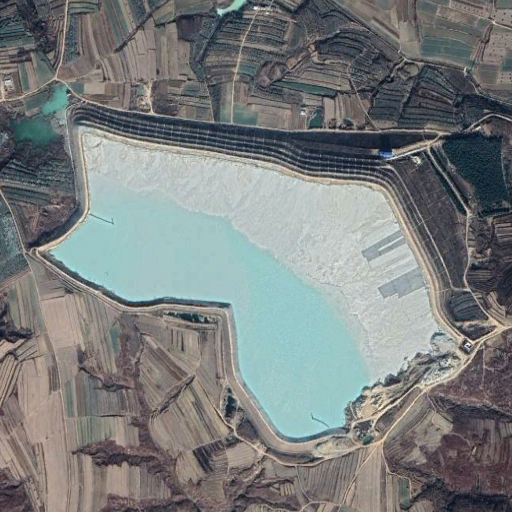tp: (38, 110, 480, 441)
